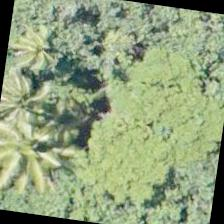Kelapa_Sawit: (2, 4, 99, 104), (0, 47, 82, 147), (0, 83, 71, 183)
